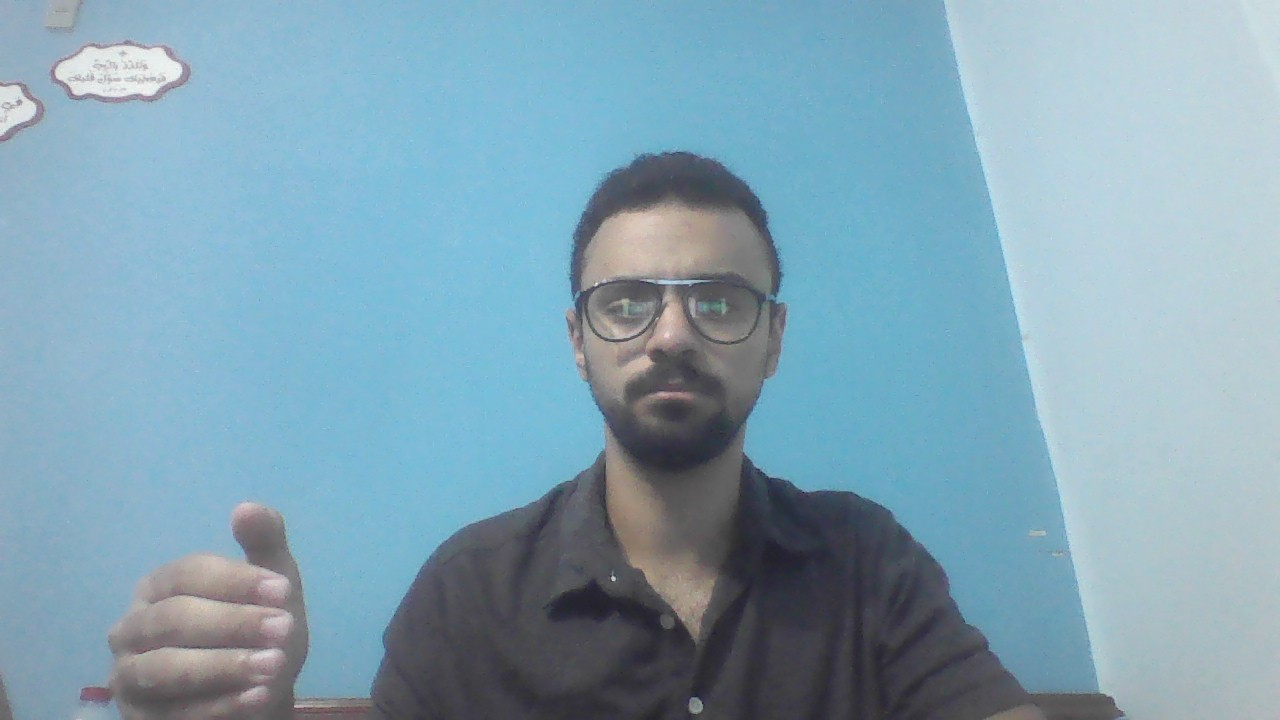drink: (107, 500, 327, 720)
